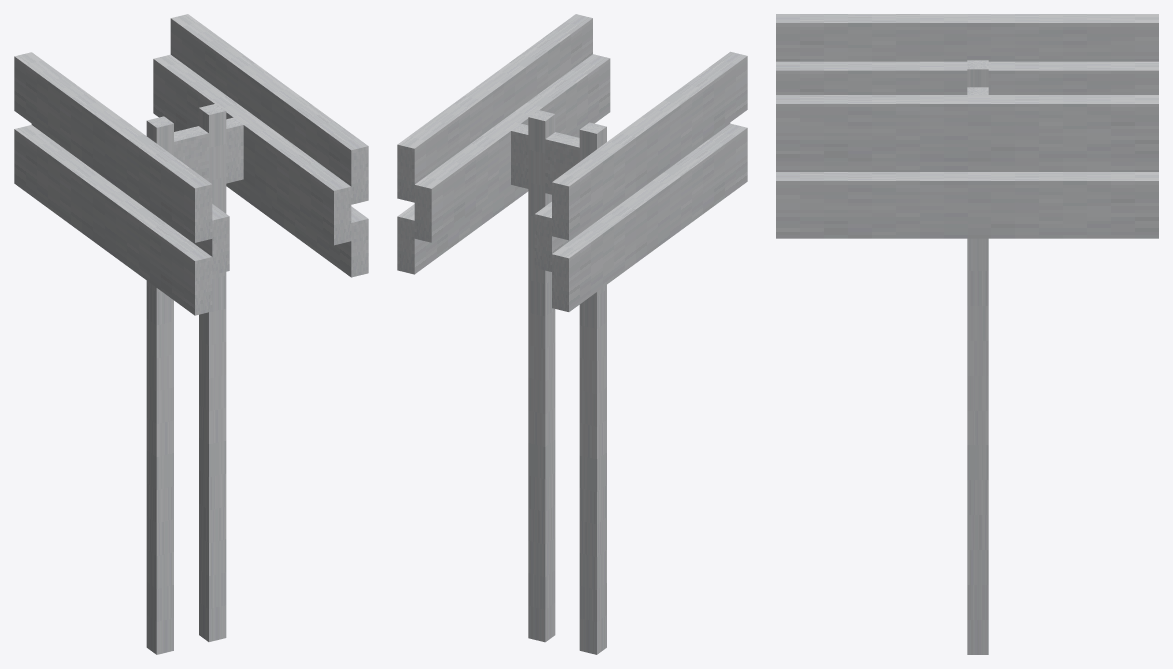
Rendered from guardrail_double.obj.
3 renders of one model, left to right at view 1: azimuth 30°, elevation 25°; view 2: azimuth 150°, elevation 25°; view 3: azimuth 270°, elevation 25°, orthographic. The views are drawn at different scales.
Parts seen in each view (by area): view 1: cube; view 2: cube; view 3: cube.
Boxes of the visible parts, bbox=[...] form: cube: bbox=[14, 14, 368, 654]; cube: bbox=[397, 14, 747, 654]; cube: bbox=[776, 14, 1158, 654].
Size of the model in its own units: 0.625 by 1.88 by 1.12.
1 material, 1 textured.
